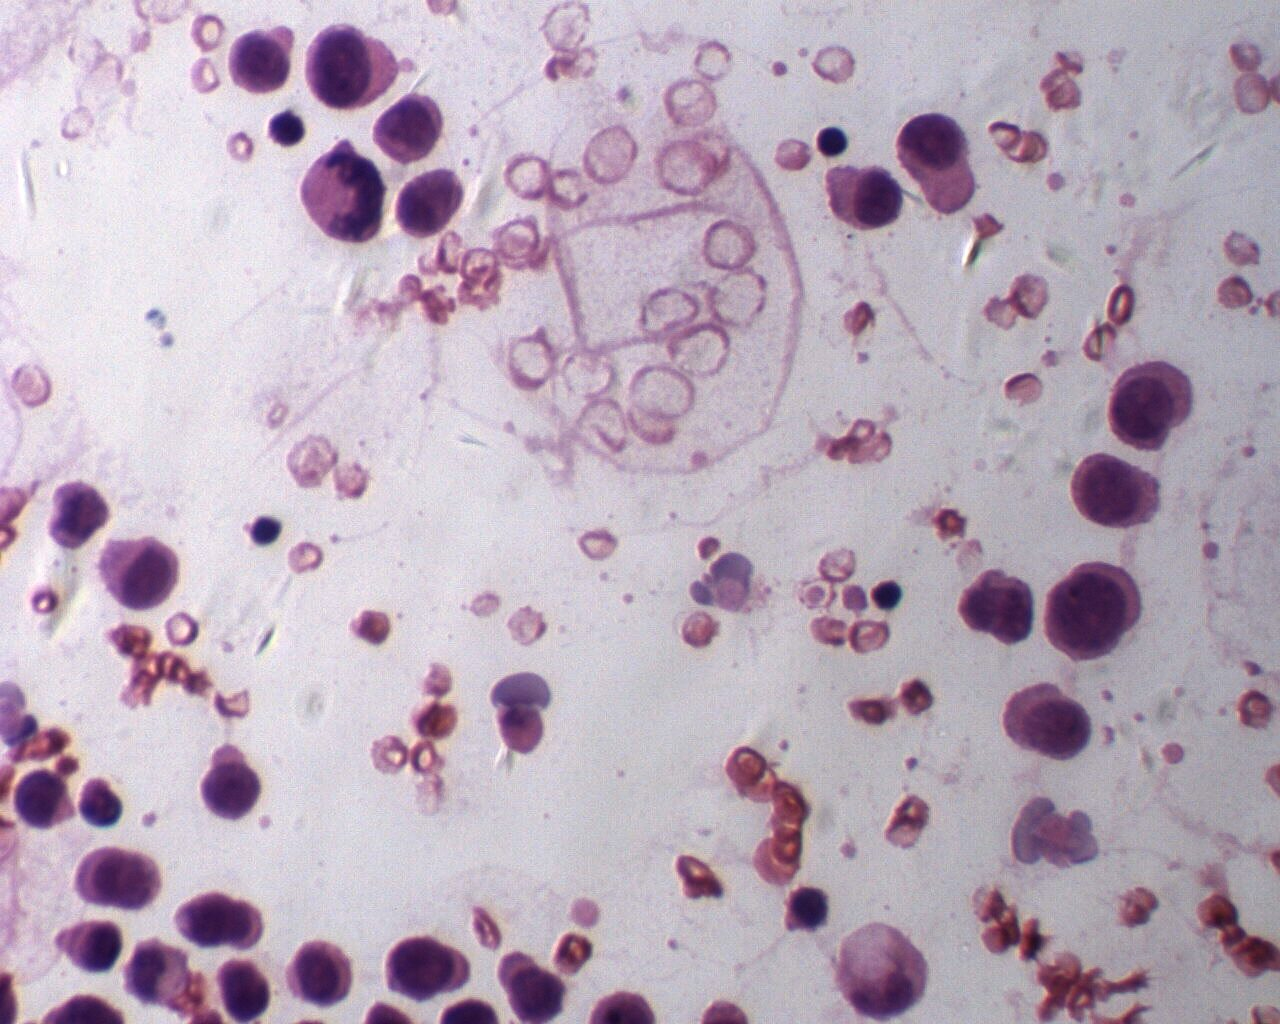ab: (1042, 560, 1151, 671), (1104, 353, 1197, 453), (305, 18, 408, 107), (1070, 447, 1170, 534), (100, 529, 185, 614), (820, 156, 909, 235), (379, 931, 469, 1008), (282, 936, 359, 1013), (369, 92, 443, 165), (39, 472, 107, 552)
lymph: (812, 124, 856, 163), (870, 578, 909, 616), (247, 514, 284, 552)
